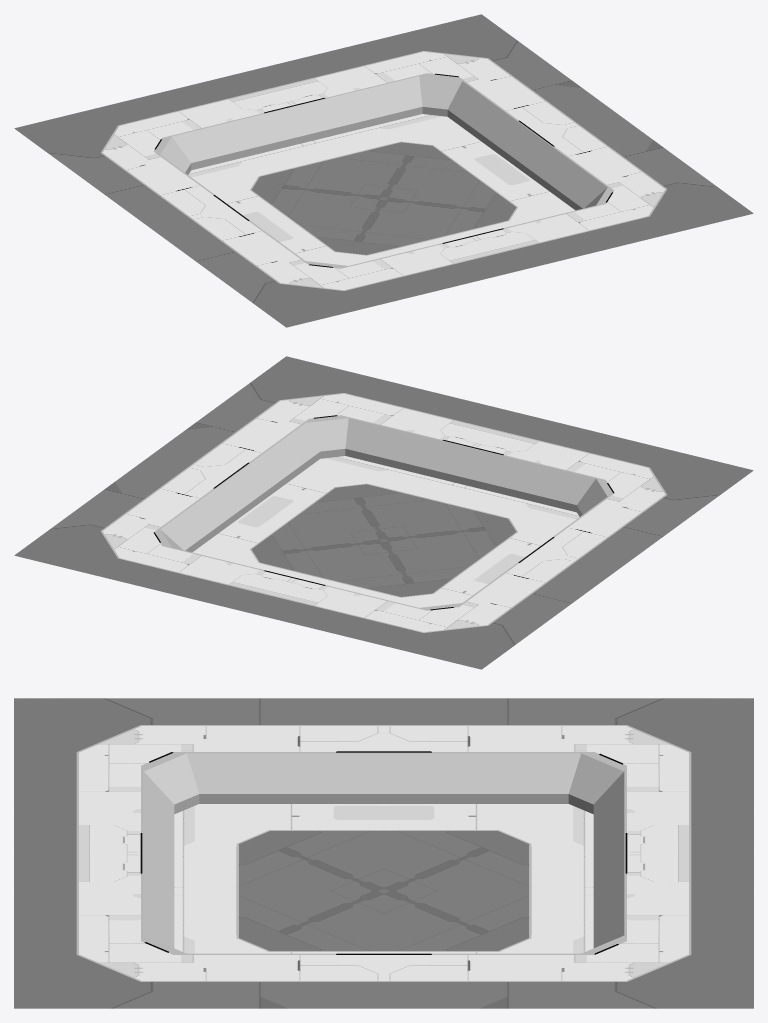
The model's file is SM_Floor_Interior_24x24_Lower_3.fbx.
The picture shows the model from 3 angles, top to bottom: view 1: azimuth 30°, elevation 25°; view 2: azimuth 150°, elevation 25°; view 3: azimuth 270°, elevation 25°; orthographic projection. The views are drawn at different scales.
Visible parts, largest first — view 1: SM_Floor_Interior_24x24_Lower_3; view 2: SM_Floor_Interior_24x24_Lower_3; view 3: SM_Floor_Interior_24x24_Lower_3.
Part boxes in pixels (<box>): SM_Floor_Interior_24x24_Lower_3: <box>14,14,753,327</box>; SM_Floor_Interior_24x24_Lower_3: <box>14,356,753,669</box>; SM_Floor_Interior_24x24_Lower_3: <box>14,698,753,1008</box>.
Size of the model in its own units: 2300 by 132 by 2320.
